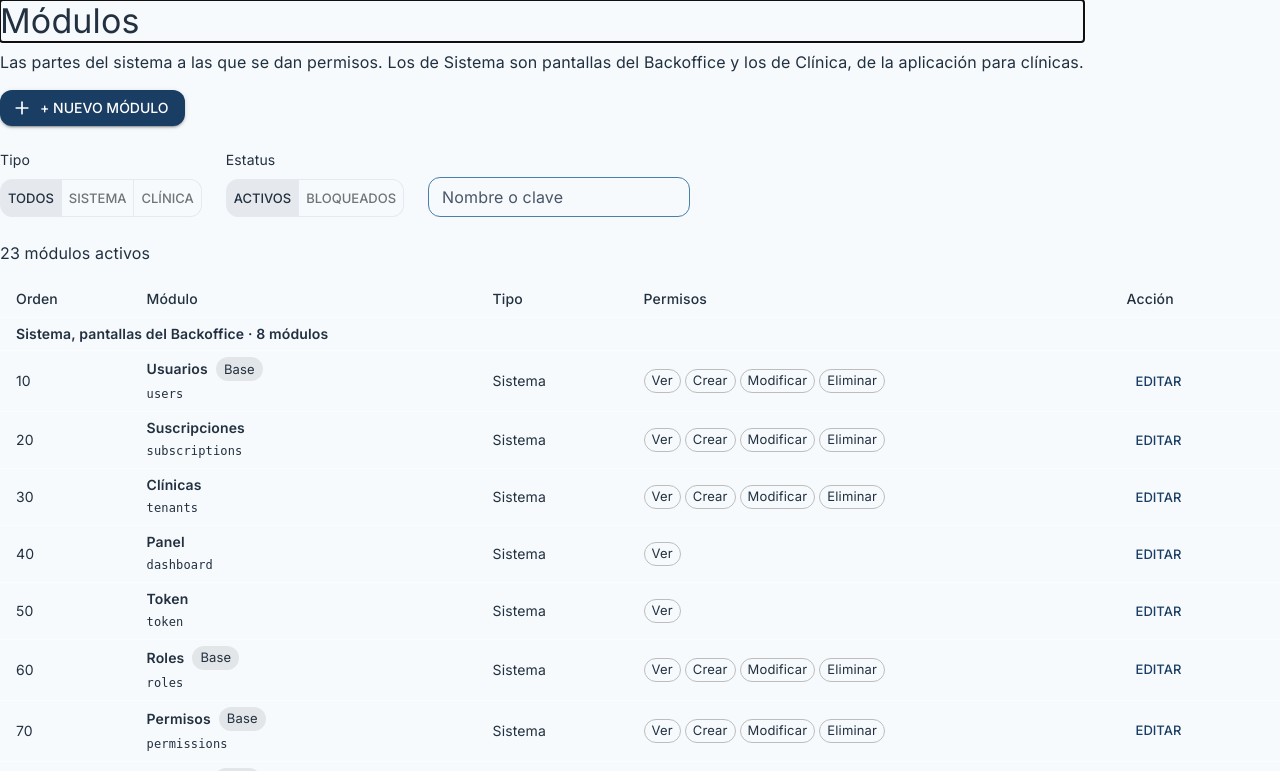
Test: ModulesPage › opens the create panel from "+ Nuevo módulo" (US2)
expect the text "23 módulos activos" is shown: met, box 0,243 -> 150,263
Click the button "+ Nuevo módulo" at x=92, y=108, box 0,90 -> 185,126
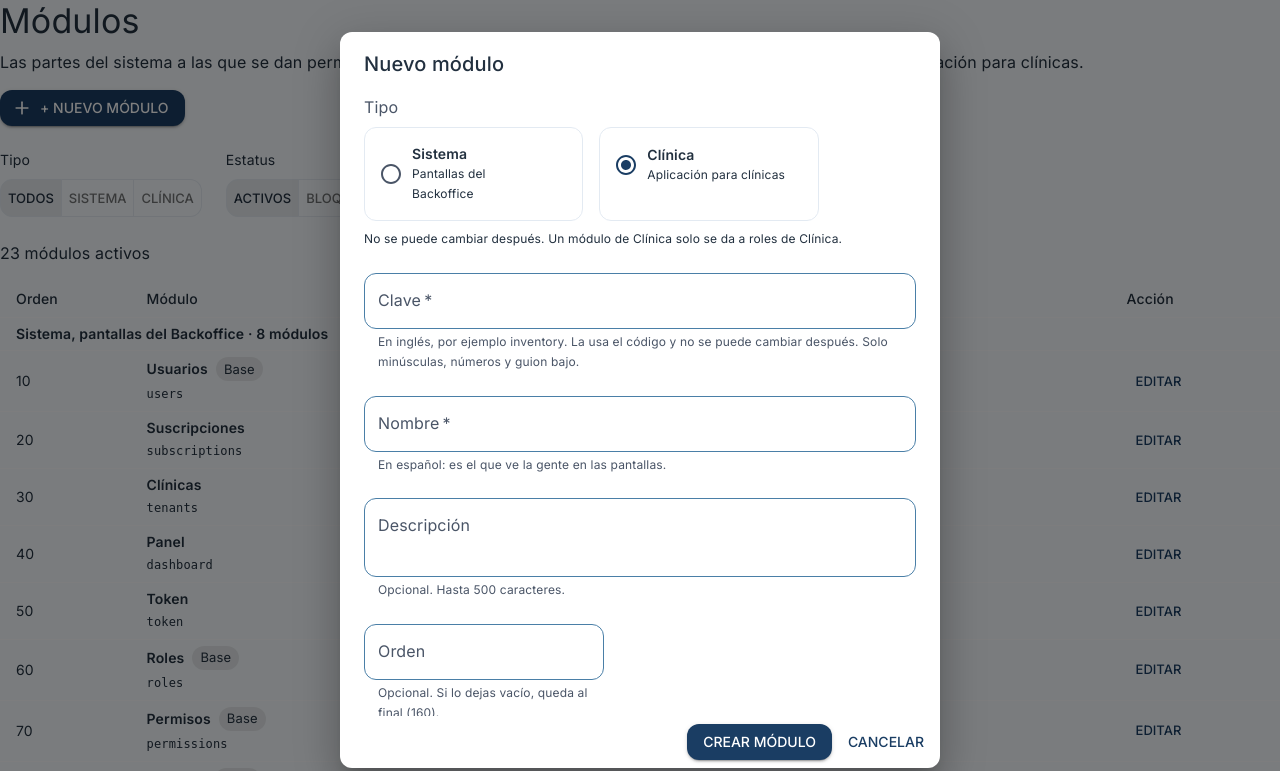
expect the dialog is shown: met, box 340,32 -> 940,768
expect the heading "Nuevo módulo" is shown: met, box 364,52 -> 504,76
